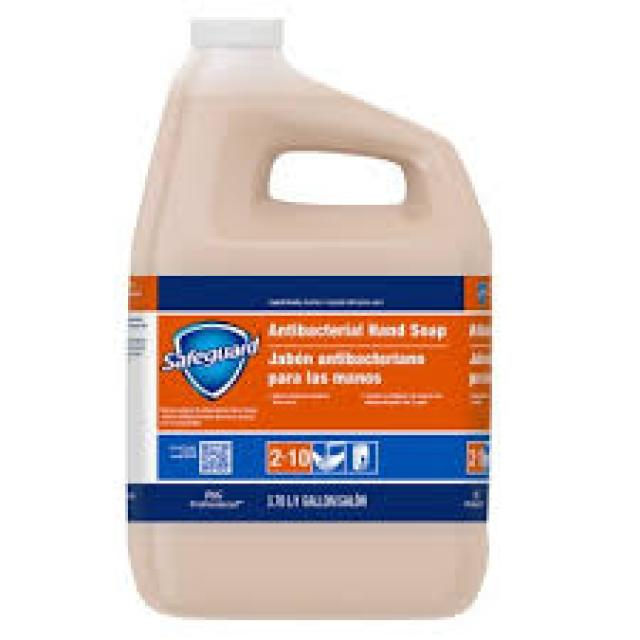liquid soap: (120, 12, 502, 622)
